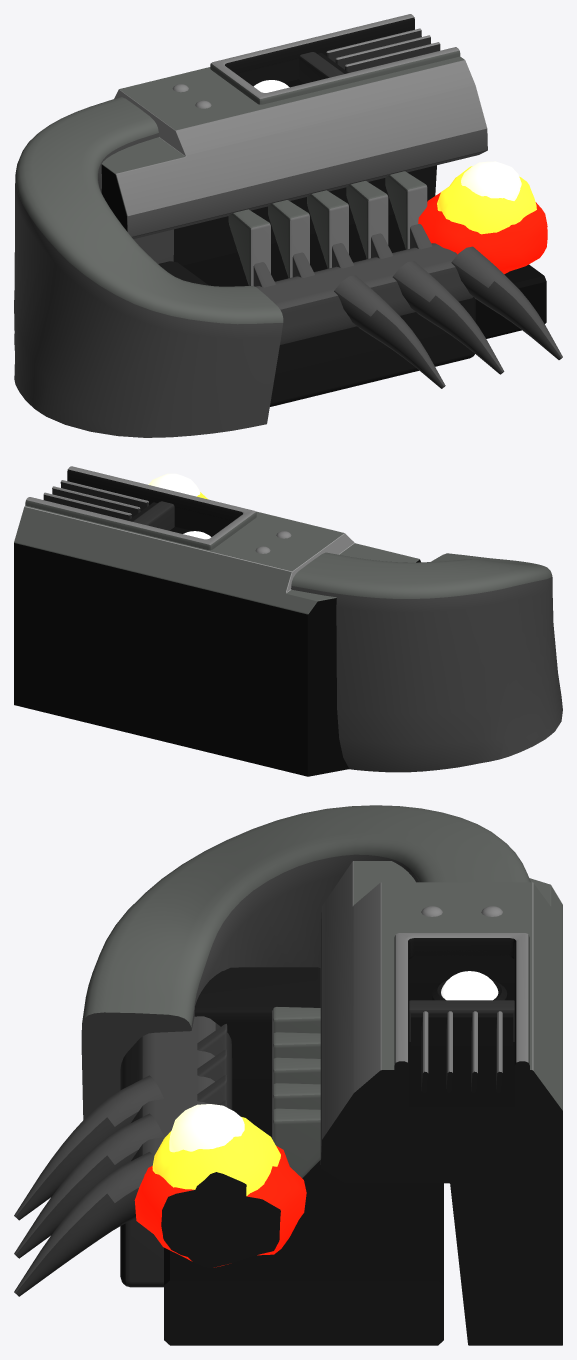
The model's file is jaw_gun_a_left_237.glb.
3 renders of one model, top to bottom at view 1: azimuth 30°, elevation 25°; view 2: azimuth 150°, elevation 25°; view 3: azimuth 270°, elevation 25°, orthographic. The views are drawn at different scales.
Parts seen in each view (by area): view 1: hinge.001, upper_jaw.001, lower_jaw.001, bezel.001, mouth_floor.001, fireball0.001, fang2.001, fang1.001, fang0.001, fireball1.001, upper_tooth3.001, upper_tooth0.001 (+8 smaller); view 2: upper_jaw.001, hinge.001, bezel.001, slat1.001, slat0.001, divider.001, slat2.001, fireball2.001; view 3: upper_jaw.001, hinge.001, mouth_floor.001, fireball0.001, lower_jaw.001, cheek.001, bezel.001, fireball1.001, fang2.001, fang0.001, fang1.001, fireball2.001 (+8 smaller).
Part boxes in pixels (box(x1,y1,x2,y2)): hinge.001: box(14, 97, 283, 437); upper_jaw.001: box(101, 23, 487, 265); lower_jaw.001: box(255, 243, 475, 406); bezel.001: box(210, 14, 460, 104); mouth_floor.001: box(183, 214, 546, 338); fireball0.001: box(418, 192, 547, 274); fang2.001: box(451, 246, 562, 359); fang1.001: box(392, 261, 504, 374); fang0.001: box(334, 275, 445, 388); fireball1.001: box(437, 166, 536, 234); upper_tooth3.001: box(346, 181, 388, 258); upper_tooth0.001: box(228, 209, 270, 285); upper_jaw.001: box(14, 475, 420, 776); hinge.001: box(291, 552, 562, 772); bezel.001: box(25, 466, 256, 550); slat1.001: box(52, 486, 140, 517); slat0.001: box(60, 480, 148, 511); divider.001: box(133, 501, 174, 530); slat2.001: box(43, 492, 131, 520); fireball2.001: box(148, 473, 200, 496); upper_jaw.001: box(320, 861, 562, 1345); hinge.001: box(81, 805, 530, 1119); mouth_floor.001: box(164, 1079, 443, 1345); fireball0.001: box(134, 1145, 306, 1268); lower_jaw.001: box(120, 1016, 232, 1287); cheek.001: box(194, 967, 320, 1079); bezel.001: box(394, 933, 529, 1083); fireball1.001: box(152, 1117, 280, 1228); fang2.001: box(14, 1152, 154, 1296); fang0.001: box(14, 1075, 164, 1220); fang1.001: box(14, 1113, 164, 1258); fireball2.001: box(169, 1104, 244, 1152).
Size of the model in its own units: 23.94 by 10.42 by 18.24.
